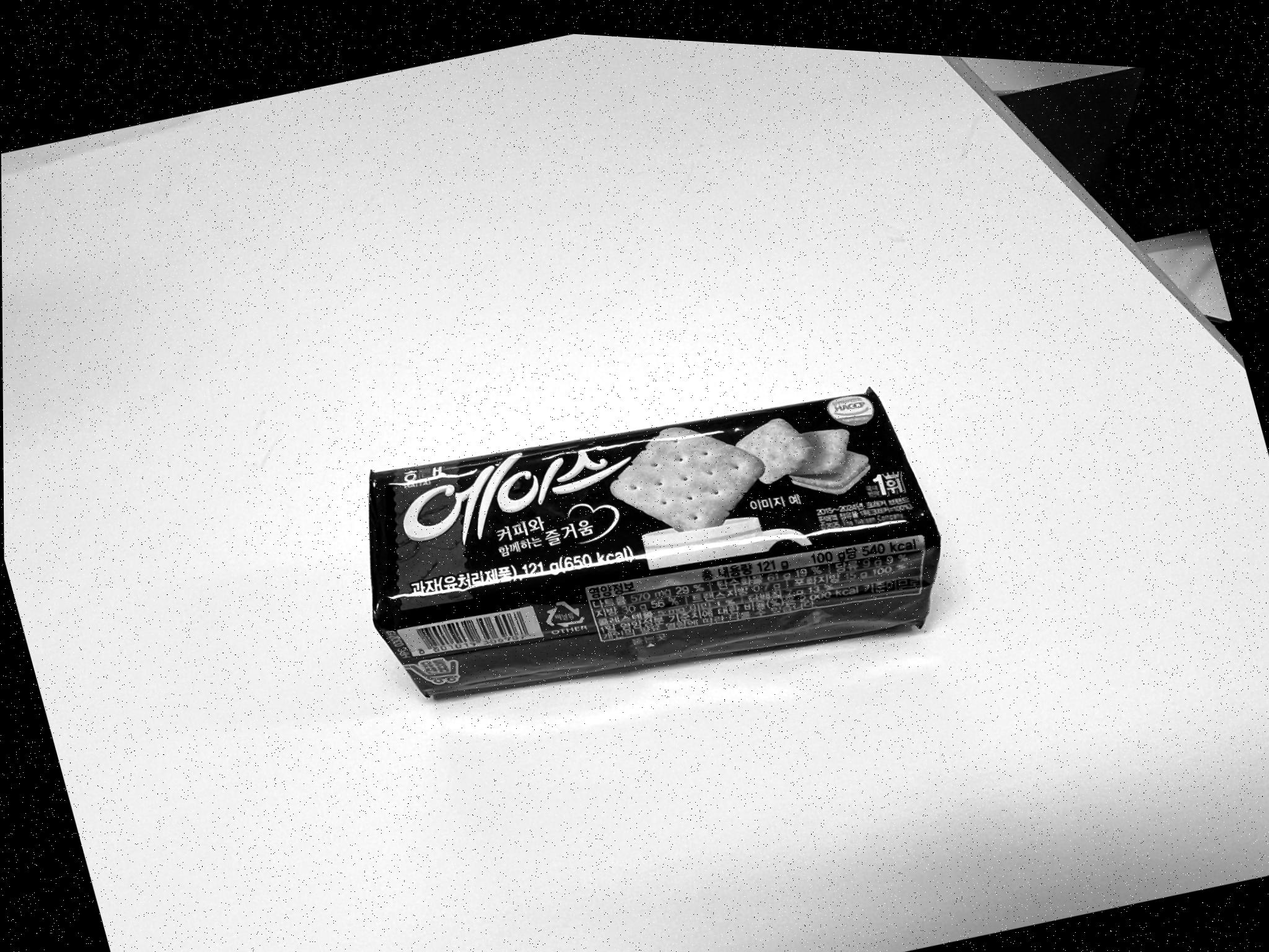cracker_ace: (372, 378, 945, 712)
